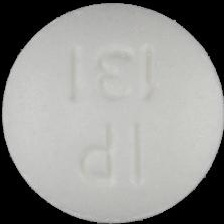11819-357: (0, 0, 224, 224)
